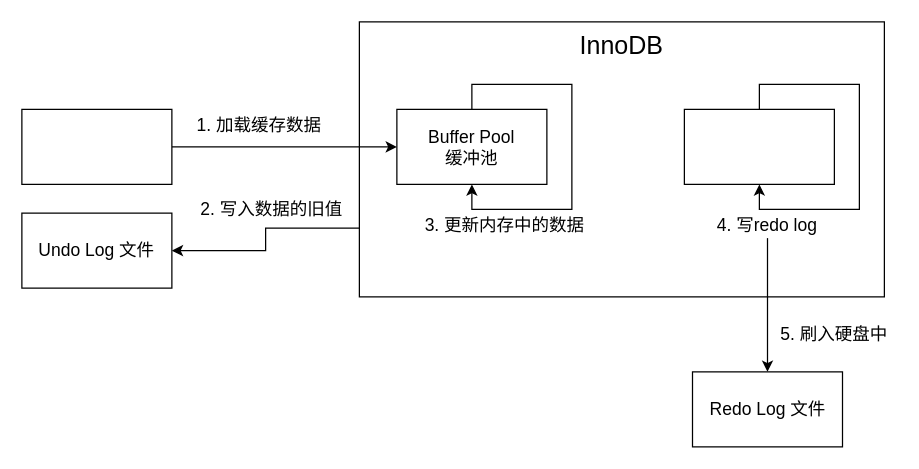
This 919x469 diagram has some shape labels left out. Each missing label, with the centre of its shape:
Redo Buffer Log: [758,146]
硬盘: [96,146]
